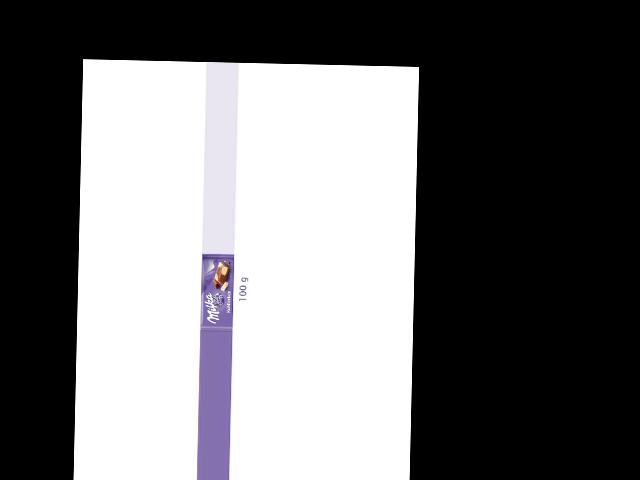chocolate: (199, 252, 239, 331)
